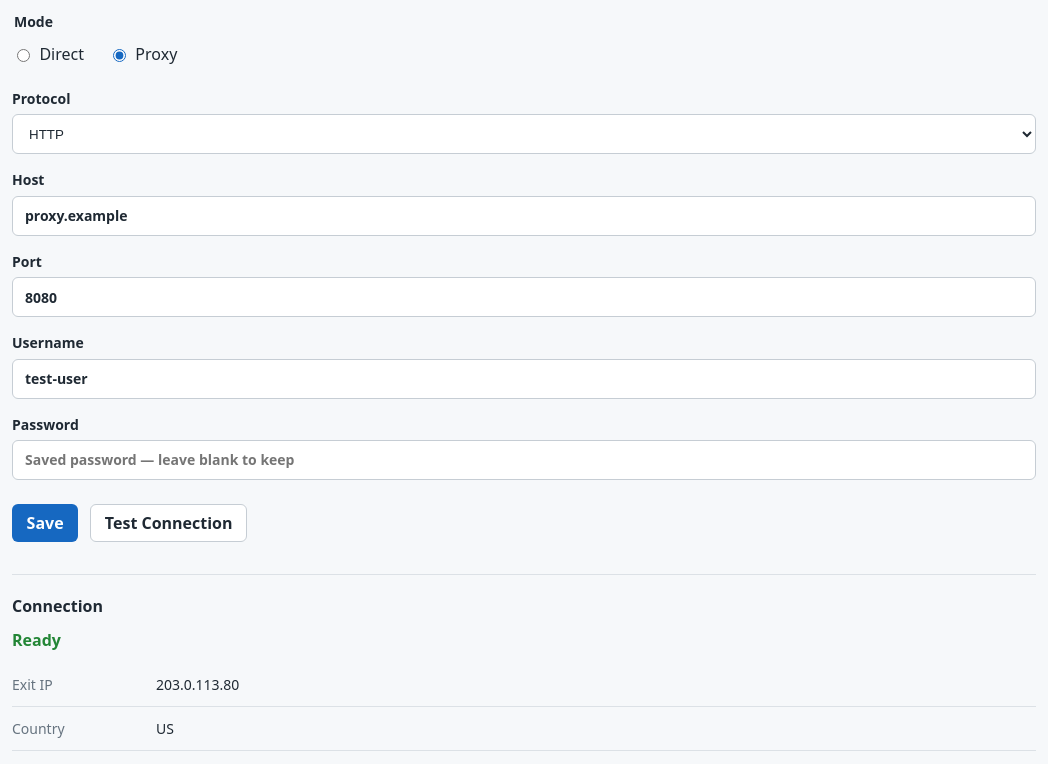
Test case: renders a failed connection without old locality
This screenshot has width=1048, height=764.
Expected: the text "Ready" is shown, [12,629,61,651]
Click the button "Test Connection" at (169, 523), box [90,504,247,542]
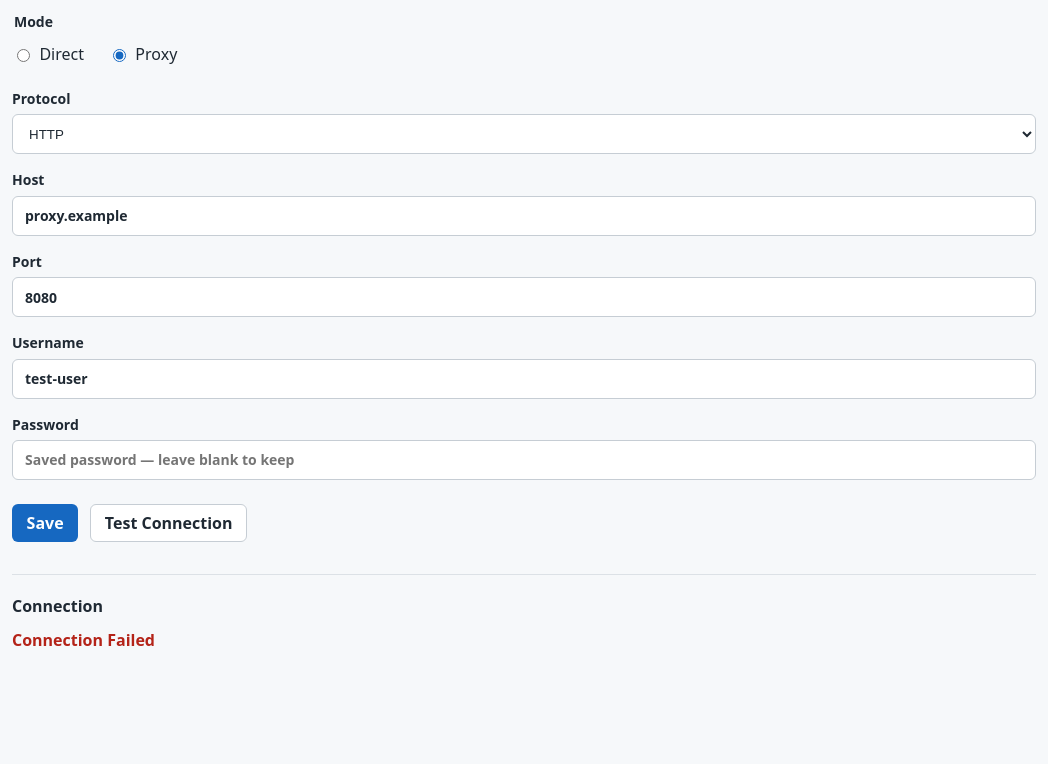
Now the text "Connection Failed" is shown, box [12,629,155,651]
